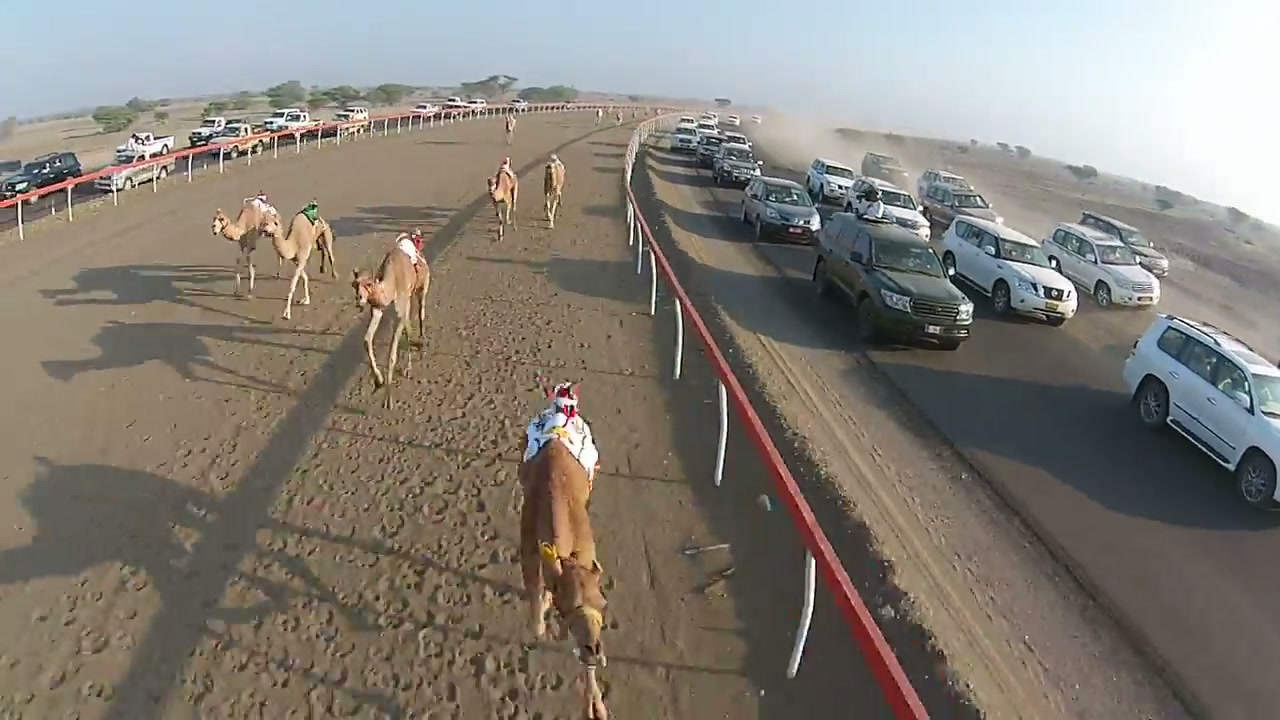animal_foot_print: (200, 333, 508, 708), (13, 420, 235, 709)
